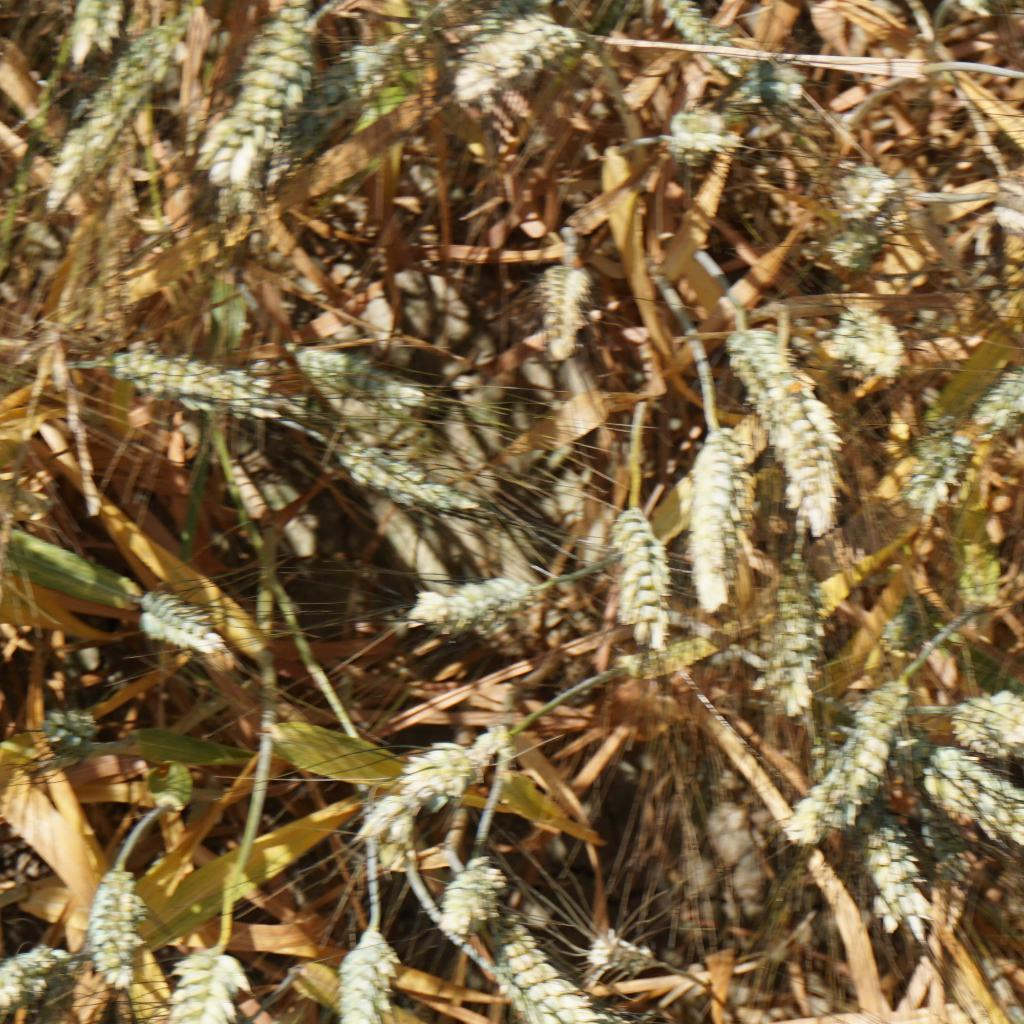0-0: (72, 20, 192, 201), (736, 335, 849, 525), (315, 435, 486, 527), (909, 747, 1024, 875), (684, 419, 755, 620), (104, 343, 280, 424), (216, 19, 296, 189), (365, 724, 493, 826), (288, 340, 438, 427), (492, 937, 634, 1024), (821, 672, 909, 812), (458, 8, 588, 102), (309, 28, 392, 154), (407, 558, 542, 635), (764, 556, 830, 707), (314, 918, 403, 1024), (613, 500, 677, 647), (851, 826, 937, 933), (79, 852, 146, 985), (887, 419, 969, 521), (429, 850, 507, 942), (141, 586, 231, 665), (939, 693, 1024, 764), (530, 259, 585, 363), (0, 934, 74, 1011), (148, 949, 223, 1024), (834, 300, 904, 375), (779, 748, 835, 840), (670, 0, 747, 61), (670, 99, 742, 163), (246, 8, 301, 87), (741, 56, 819, 107), (581, 922, 659, 971), (863, 589, 925, 650), (833, 161, 896, 217), (982, 359, 1024, 439), (68, 0, 118, 61), (41, 707, 90, 768), (821, 222, 879, 272)
